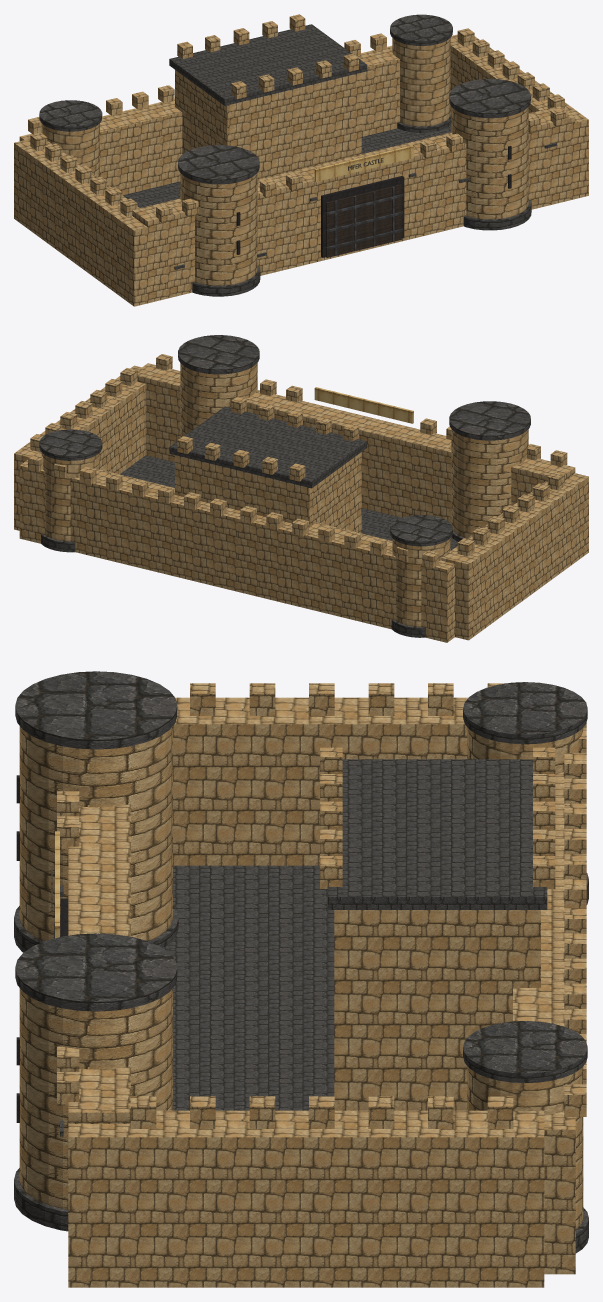
The model's file is castle-gate.glb.
3 renders of one model, top to bottom at view 1: azimuth 30°, elevation 25°; view 2: azimuth 150°, elevation 25°; view 3: azimuth 270°, elevation 25°, orthographic. The views are drawn at different scales.
Visible parts, largest first — view 1: mfer_castle_solid_closed; view 2: mfer_castle_solid_closed; view 3: mfer_castle_solid_closed.
Part boxes in pixels (left/top/right/bottom): mfer_castle_solid_closed: left=14, top=14, right=588, bottom=306; mfer_castle_solid_closed: left=14, top=335, right=588, bottom=642; mfer_castle_solid_closed: left=14, top=671, right=588, bottom=1287.
Size of the model in its own units: 33.2 by 9.21 by 18.36.
Materials: 7 (6 with a texture image).
